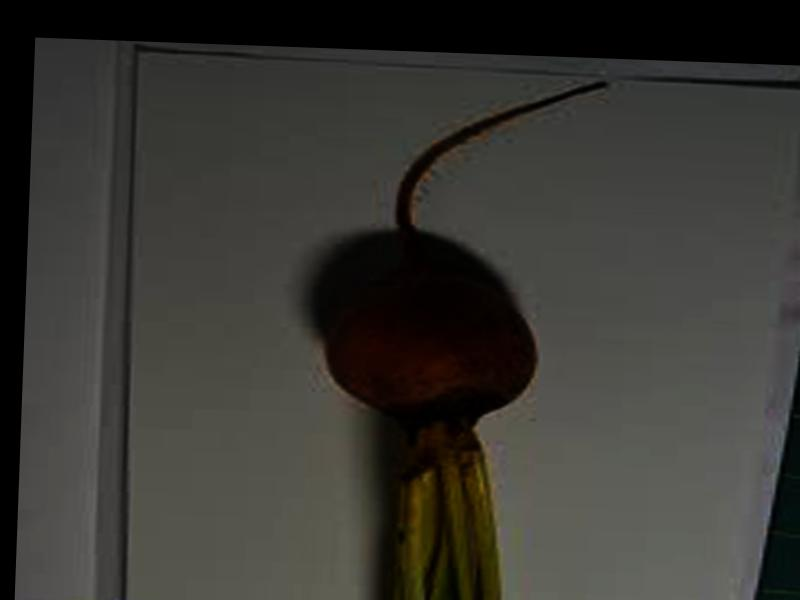Beet: (316, 72, 604, 600)
